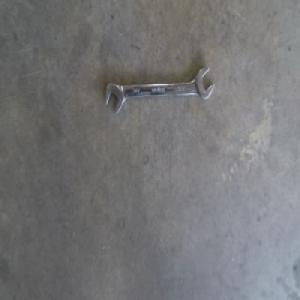Wrench: (101, 68, 217, 119)
